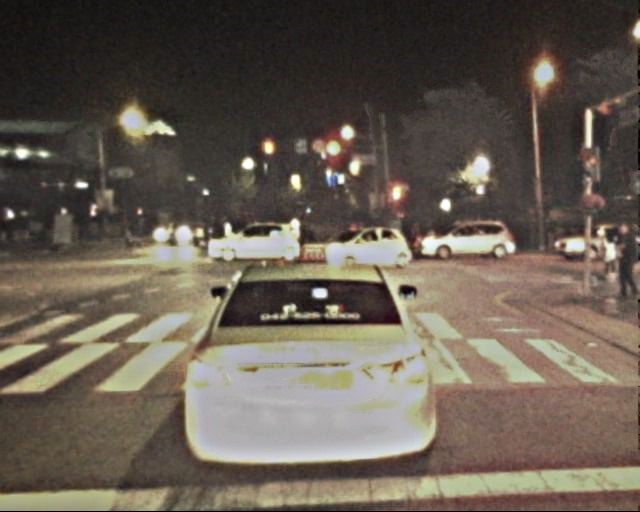person: (608, 221, 638, 295), (597, 230, 619, 284), (202, 219, 228, 242), (122, 216, 137, 253), (296, 219, 313, 249), (412, 224, 426, 257), (187, 216, 200, 248), (168, 216, 181, 247)
